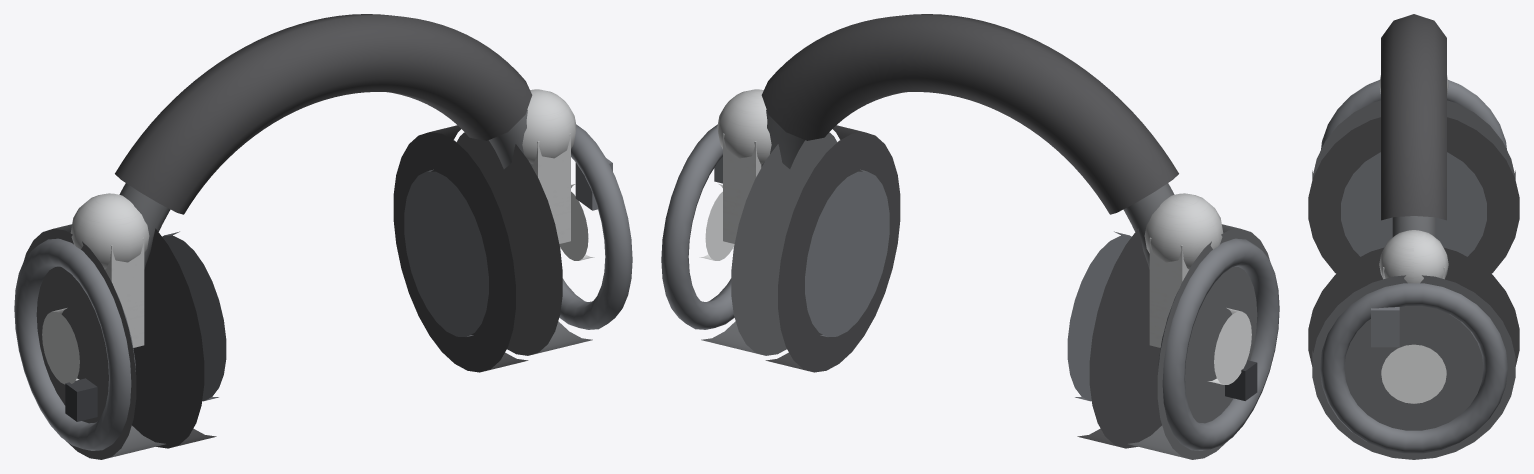
Rendered from wireless-headphones.glb.
The picture shows the model from 3 angles, left to right: view 1: azimuth 30°, elevation 25°; view 2: azimuth 150°, elevation 25°; view 3: azimuth 270°, elevation 25°; orthographic projection. The views are drawn at different scales.
Parts seen in each view (by area): view 1: cushion, pad (×2), cup (×2), cup-ring (×2), driver (×2), hinge (×2), band-slider (×2), logo (×2), band, port, button; view 2: cushion, pad (×2), cup (×2), cup-ring (×2), driver (×2), hinge (×2), band-slider (×2), logo (×2), band, port; view 3: cup (×2), pad (×2), cup-ring (×2), cushion, driver, logo, hinge, button, band.
Part boxes in pixels (x1=…): cushion: x1=115, y1=14, x2=532, y2=214; pad (×2): x1=132, y1=125, x2=528, y2=448; cup (×2): x1=24, y1=132, x2=592, y2=459; cup-ring (×2): x1=14, y1=124, x2=632, y2=450; driver (×2): x1=162, y1=169, x2=488, y2=401; hinge (×2): x1=70, y1=89, x2=576, y2=269; band-slider (×2): x1=105, y1=133, x2=570, y2=347; logo (×2): x1=42, y1=184, x2=594, y2=384; band: x1=119, y1=110, x2=532, y2=269; port: x1=65, y1=378, x2=97, y2=421; button: x1=575, y1=158, x2=612, y2=210; cushion: x1=761, y1=14, x2=1178, y2=214; pad (×2): x1=765, y1=125, x2=1161, y2=448; cup (×2): x1=701, y1=132, x2=1269, y2=459; cup-ring (×2): x1=661, y1=124, x2=1279, y2=450; driver (×2): x1=805, y1=169, x2=1131, y2=401; hinge (×2): x1=717, y1=89, x2=1223, y2=269; band-slider (×2): x1=723, y1=133, x2=1188, y2=347; logo (×2): x1=699, y1=184, x2=1251, y2=384; band: x1=761, y1=110, x2=1174, y2=269; port: x1=1225, y1=360, x2=1257, y2=400; cup (×2): x1=1312, y1=100, x2=1515, y2=459; pad (×2): x1=1308, y1=117, x2=1519, y2=366; cup-ring (×2): x1=1320, y1=80, x2=1507, y2=453; cushion: x1=1381, y1=14, x2=1446, y2=220; driver: x1=1341, y1=152, x2=1486, y2=256; logo: x1=1381, y1=344, x2=1446, y2=403; hinge: x1=1379, y1=230, x2=1448, y2=283; button: x1=1371, y1=307, x2=1399, y2=347; band: x1=1392, y1=216, x2=1435, y2=237.
Size of the model in its own units: 0.259 by 0.174 by 0.1034.
Materials: 7 (2 with a texture image).
